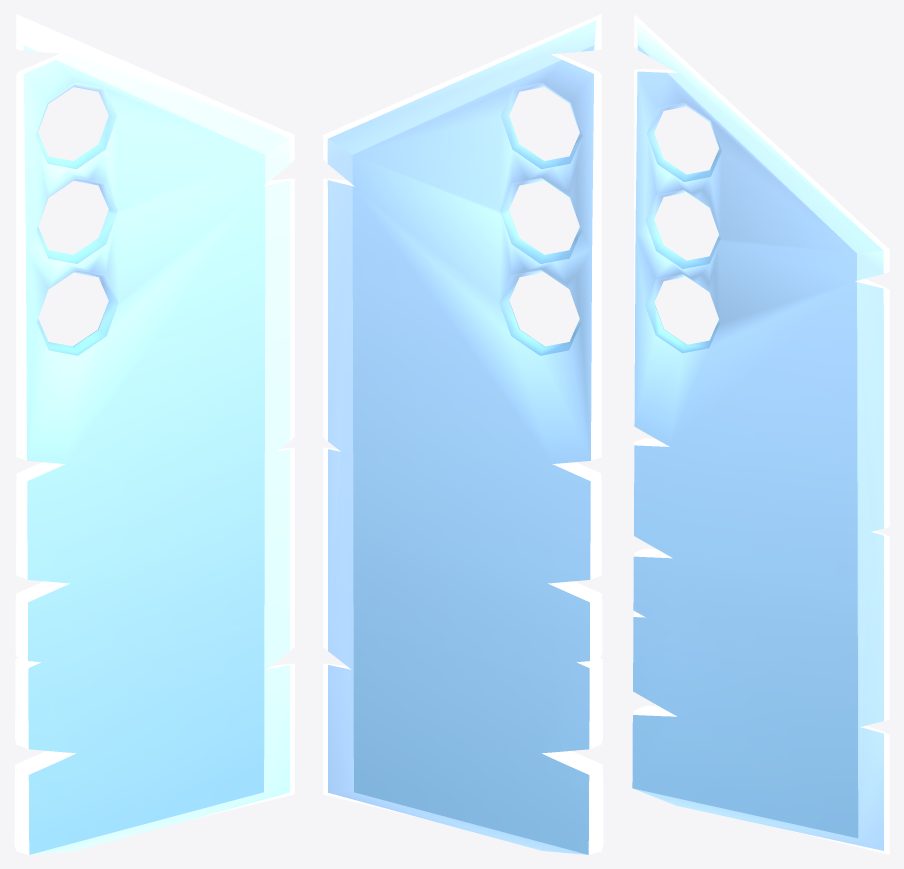
File: steel_blade_scratched_059.glb
3 views of the same model, side by side, from view 1: azimuth 30°, elevation 25°; view 2: azimuth 150°, elevation 25°; view 3: azimuth 330°, elevation 25° (orthographic). The views are drawn at different scales.
Visible parts, largest first — view 1: steel_blade_scratched.059; view 2: steel_blade_scratched.059; view 3: steel_blade_scratched.059.
Part boxes in pixels (x1,y1,x2,y2): steel_blade_scratched.059: (14,14,294,854); steel_blade_scratched.059: (323,14,603,854); steel_blade_scratched.059: (632,14,889,854).
Bounding box in the file's own units: 4.06 × 11.85 × 0.374.
Materials: 1 (1 with a texture image).
